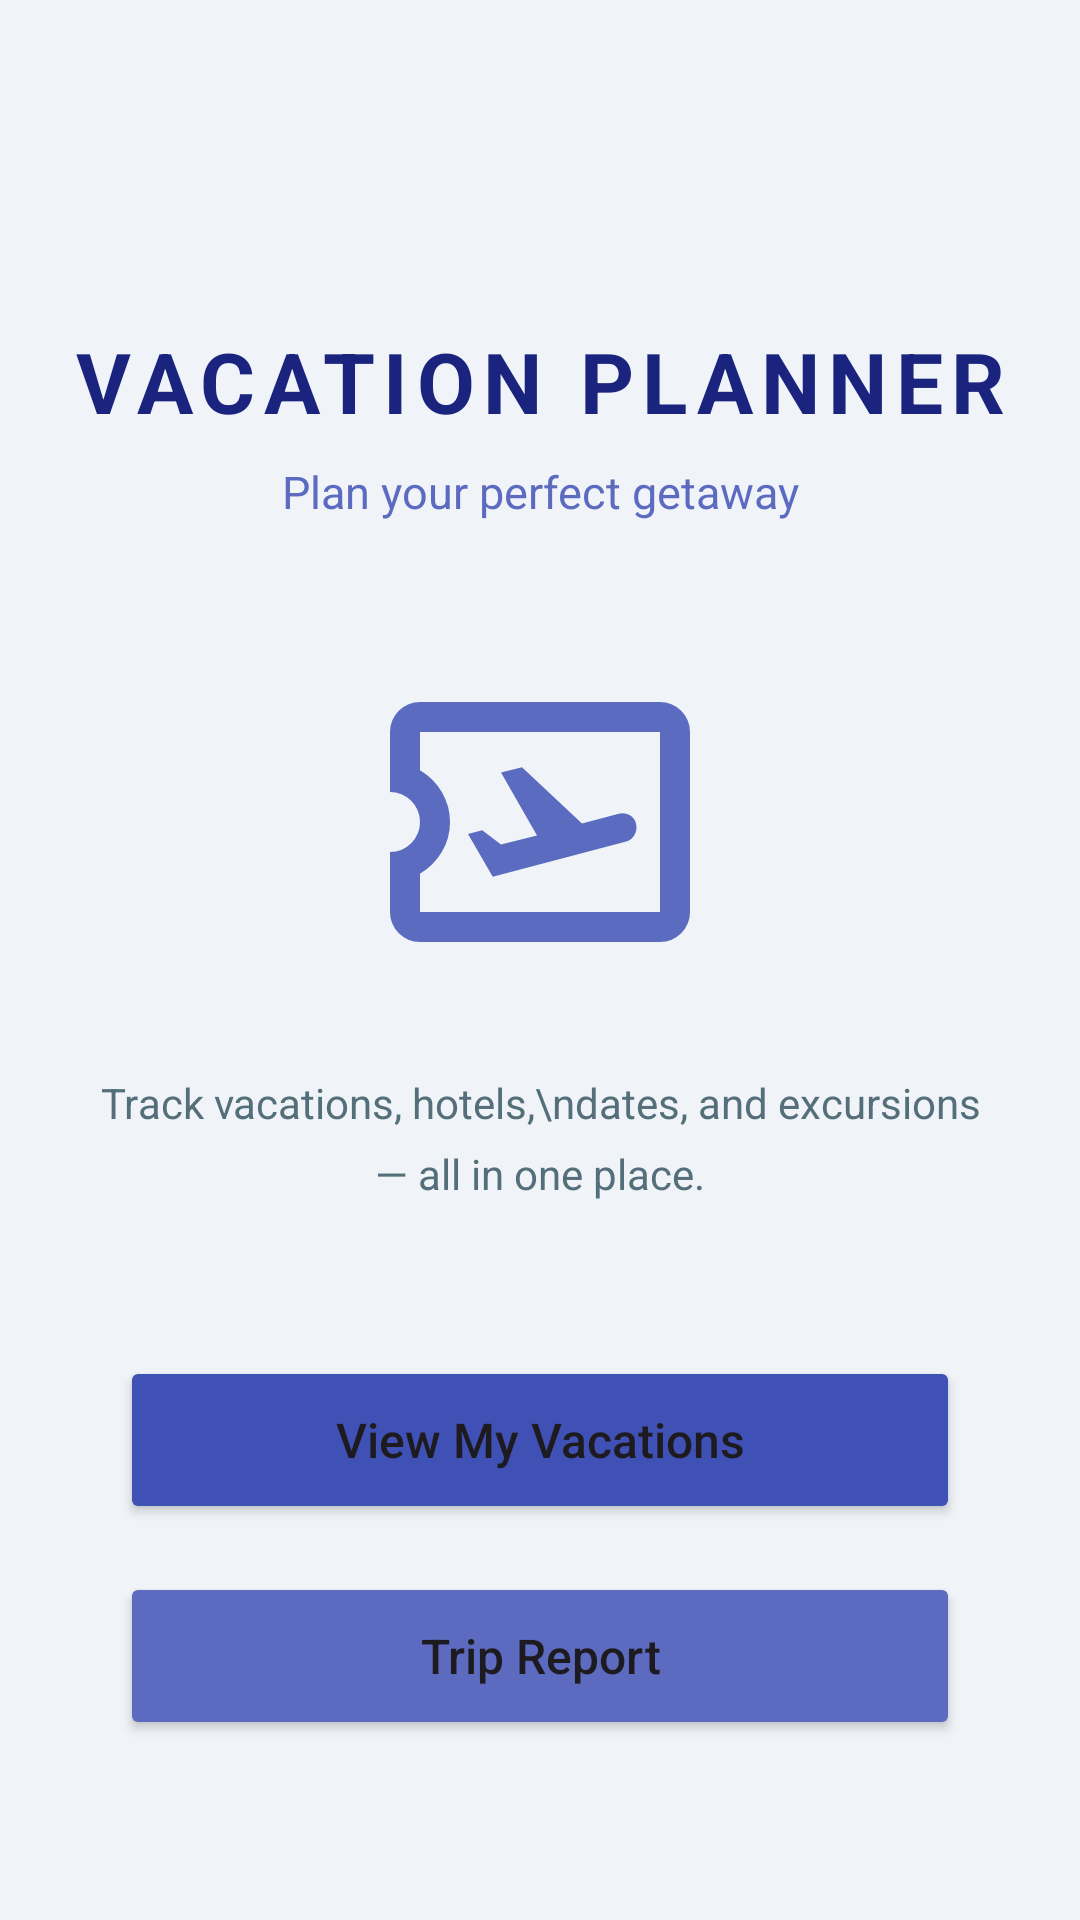

Point at icon controls on the screen. Image size 1080×1920, points as (x=x, y=y).
flight: (x=540, y=822)
